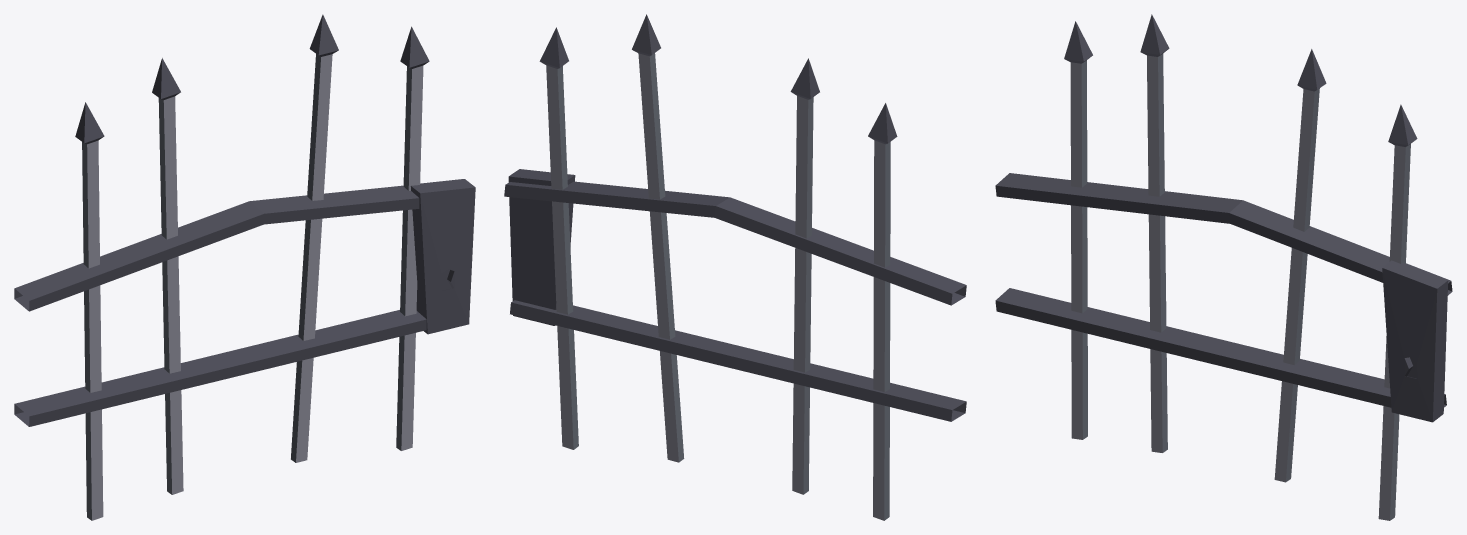
The model's file is HWN20_IronDoor_01.glb.
The picture shows the model from 3 angles, left to right: view 1: azimuth 30°, elevation 25°; view 2: azimuth 150°, elevation 25°; view 3: azimuth 330°, elevation 25°; orthographic projection.
Visible parts, largest first — view 1: HWN20_IronDoor_01; view 2: HWN20_IronDoor_01; view 3: HWN20_IronDoor_01.
Boxes of the visible parts, x1,y1,x2,y2 form: HWN20_IronDoor_01: (14,14,475,520); HWN20_IronDoor_01: (504,14,966,520); HWN20_IronDoor_01: (995,14,1452,520).
Size of what is drawn, in the model's own units: 2.72 by 2.63 by 0.1872.
Materials: 1 (1 with a texture image).
